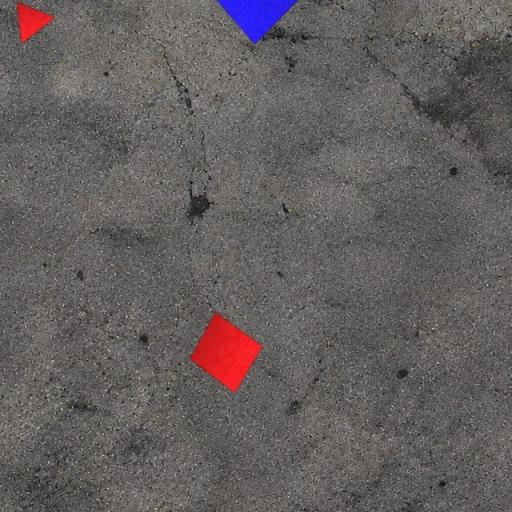BLUE_SQUARE: (182, 0, 333, 45)
RED_SQUARE: (190, 311, 263, 394)
